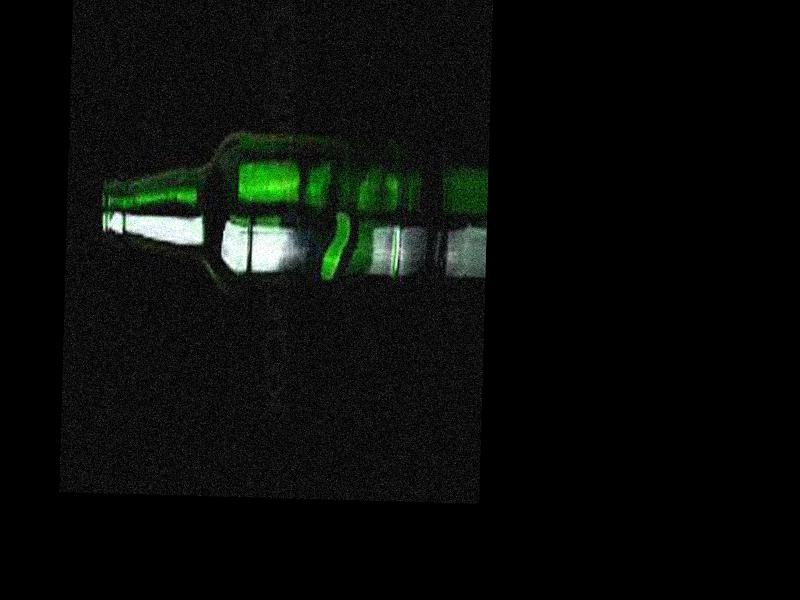Beer: (100, 126, 404, 278)
